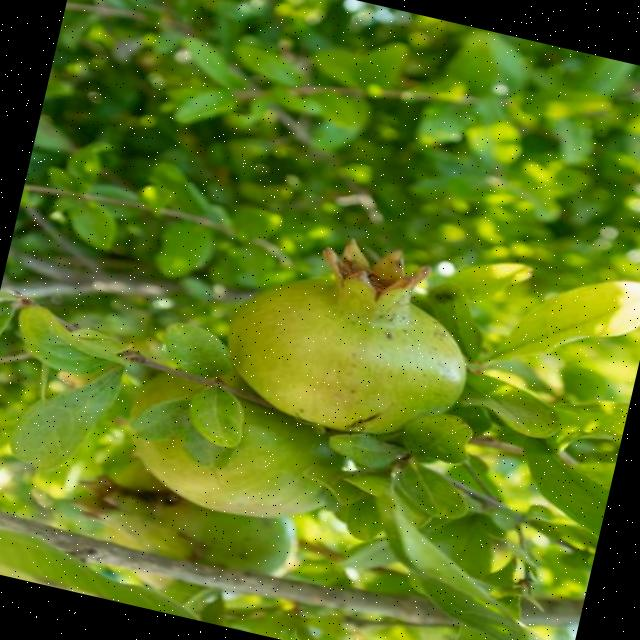Unripe: (210, 214, 493, 457), (107, 358, 362, 538)
